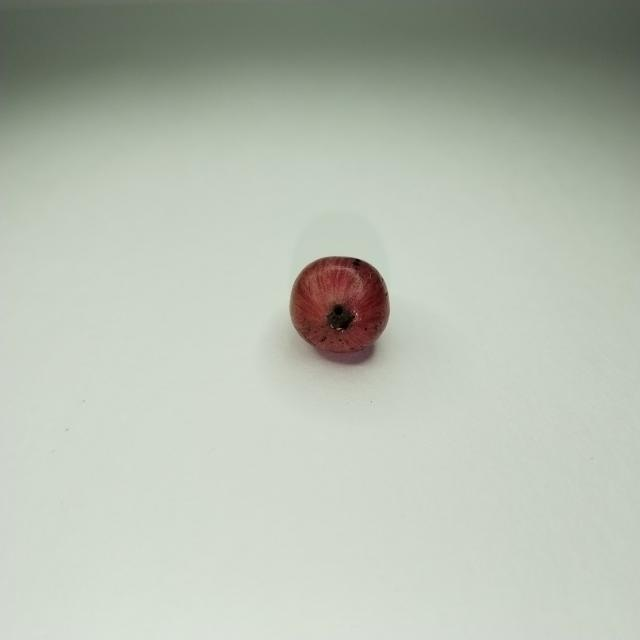Infectado: (291, 256, 391, 354)
